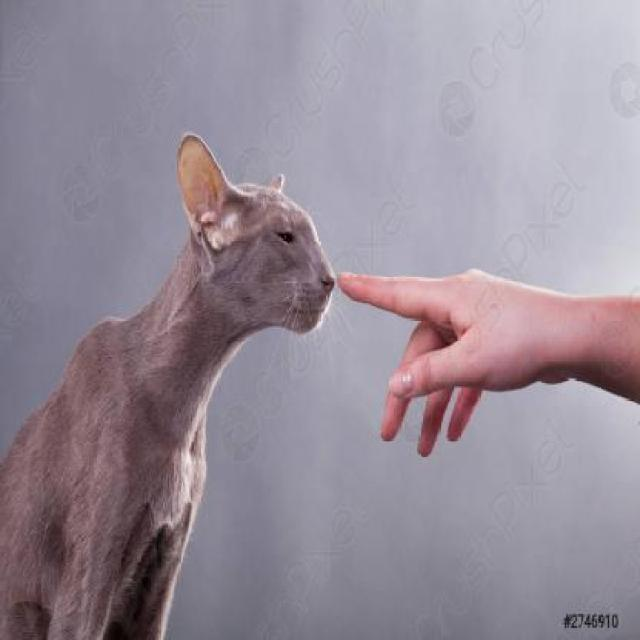no_apron: (344, 258, 537, 448)
